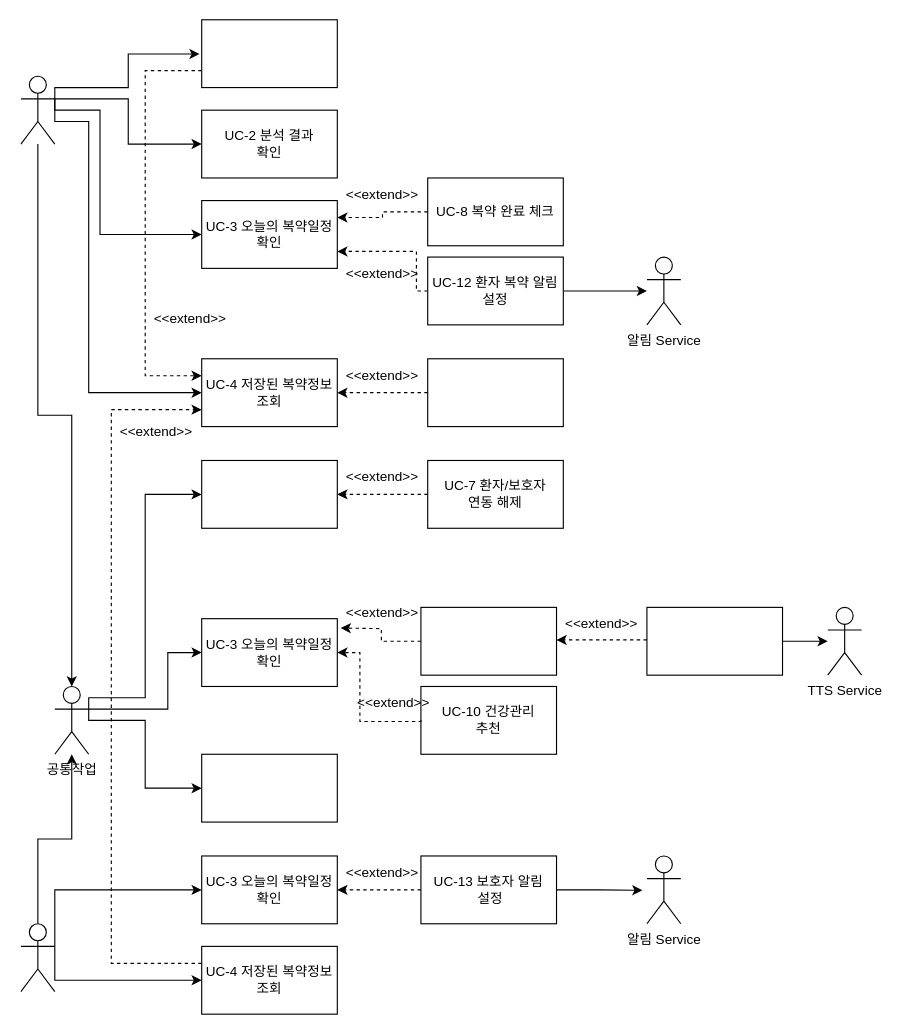
The diagram is 902 pixels wide and 1035 high, and some of its shapes have lost their labels. The shapes that lost their labels are listed below. From the top down, each one's centre as x and y in pixels, then its label:
[269,53]: UC-1 처방전 이미지 입력 및 분석
[37,109]: 환자
[495,392]: UC-5 복약정보 수정/ 삭제
[269,493]: UC-6 환자/보호자 연동
[488,640]: UC-9 약 상세정보 확인
[714,640]: UC-11 음성안내
[269,787]: UC-14 사용자 설정
[37,957]: 보호자
